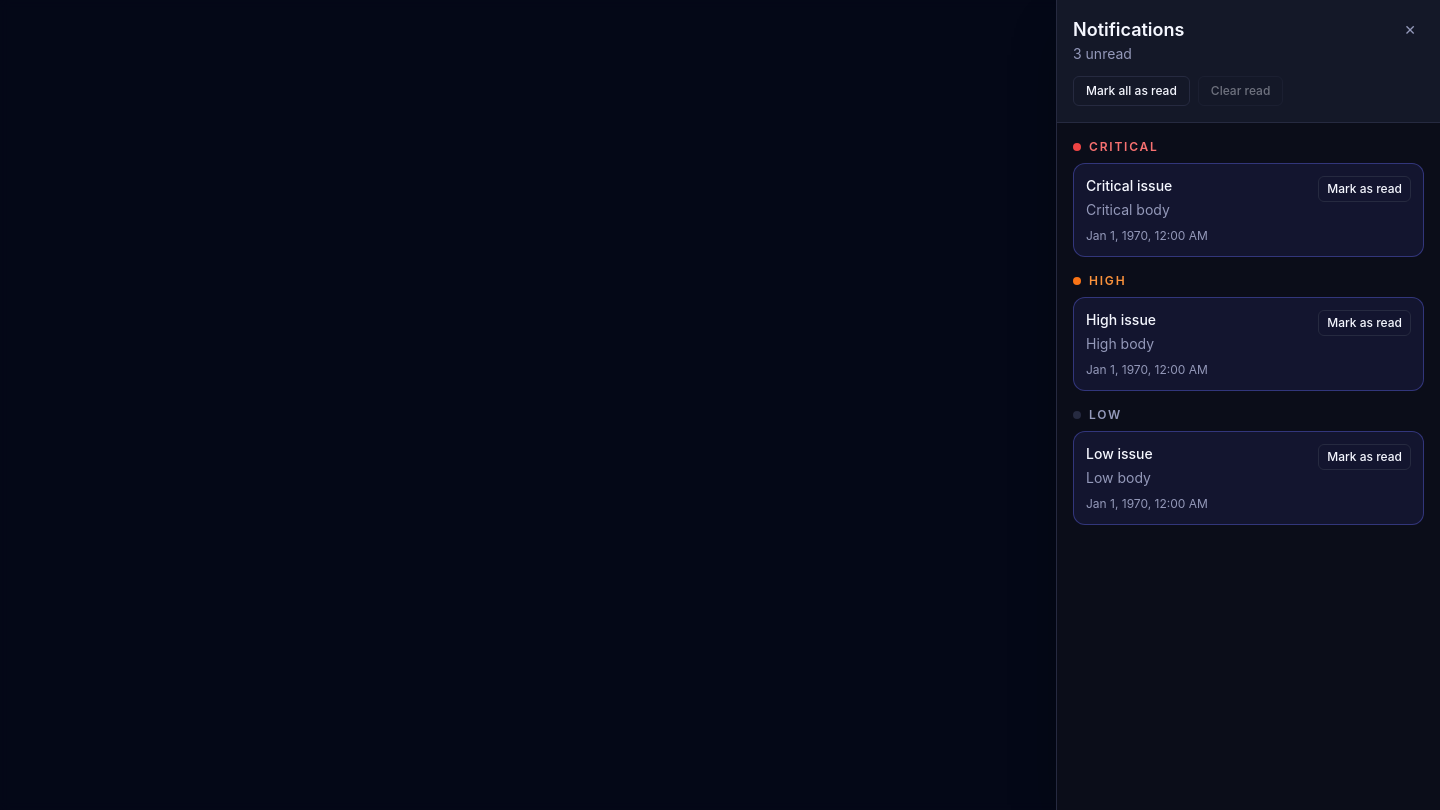
Test: NotificationsDrawer › marks all as read and disables the action
Click the button "Mark all as read": (1131, 91) x1=1073 y1=76 x2=1190 y2=106
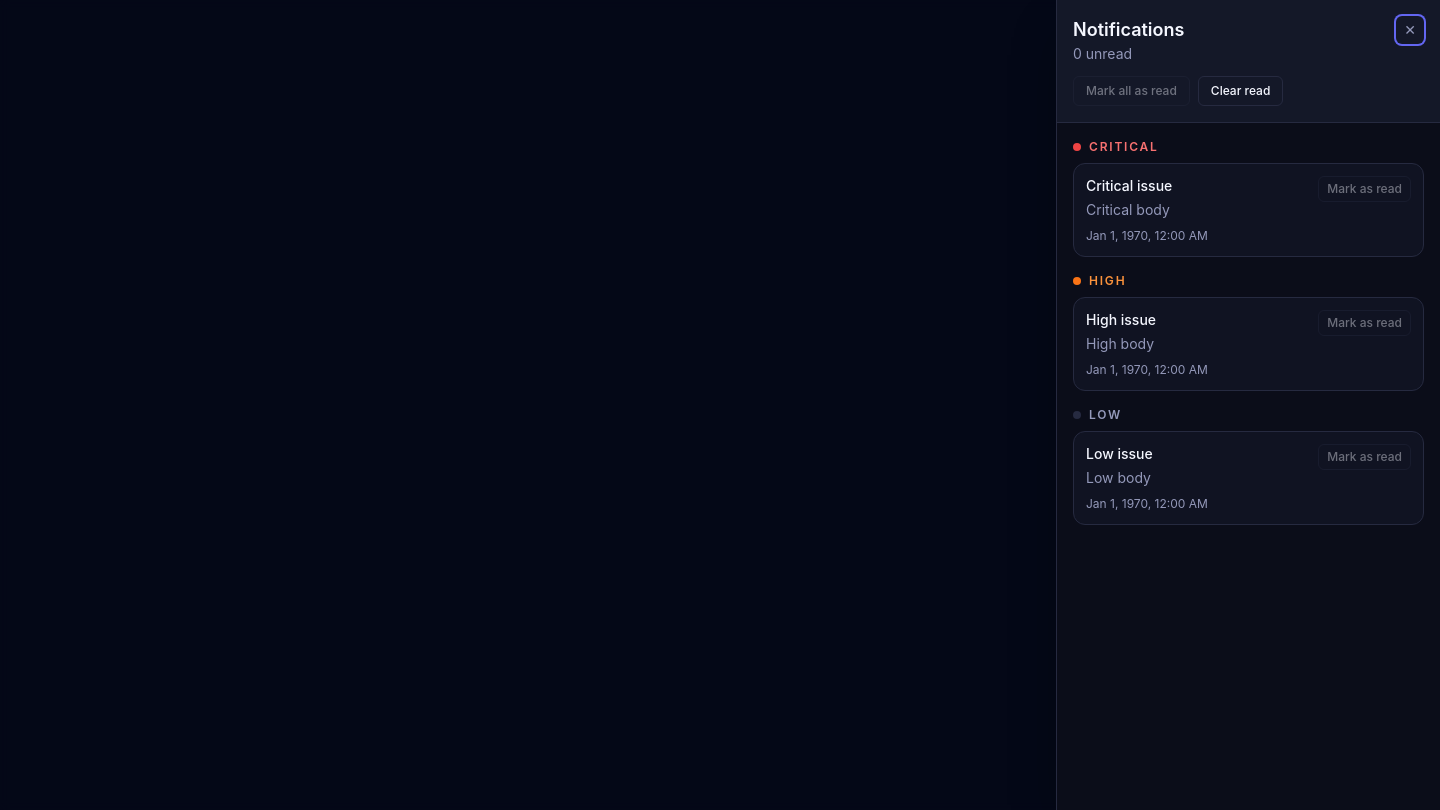
expect the button "Mark all as read" is disabled: met, box x1=1073 y1=76 x2=1190 y2=106
